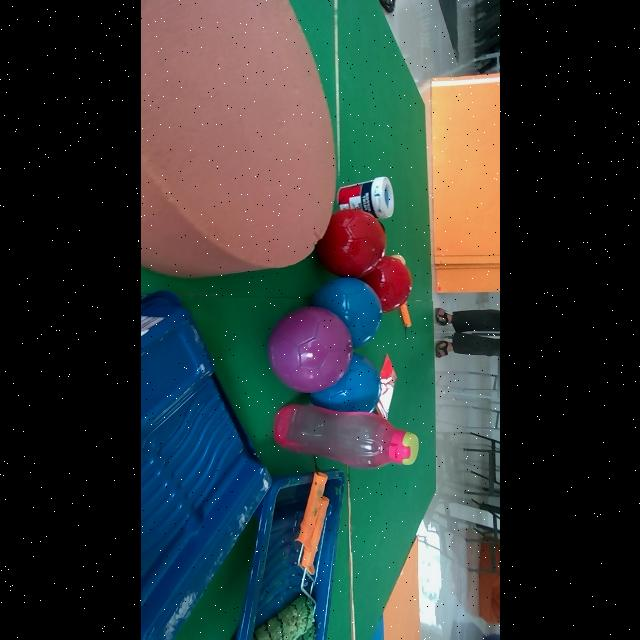B: (311, 278, 382, 348), (310, 353, 381, 411)
P: (268, 306, 352, 393)
R: (317, 209, 386, 278), (361, 256, 412, 313)
